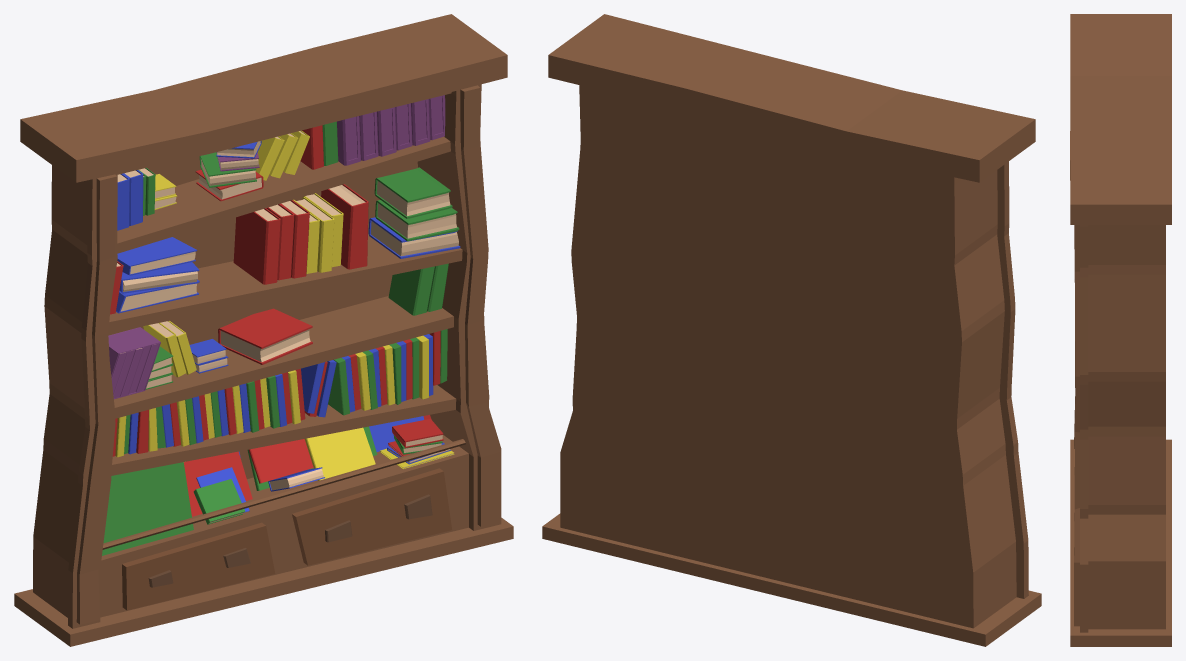
The model's file is bookcase torta.fbx.
3 renders of one model, left to right at view 1: azimuth 30°, elevation 25°; view 2: azimuth 150°, elevation 25°; view 3: azimuth 270°, elevation 25°, orthographic. The views are drawn at different scales.
Visible parts, largest first — view 1: BarBottomShelf; view 2: BarBottomShelf; view 3: BarBottomShelf.
Boxes of the visible parts, left/top/right/bottom form: BarBottomShelf: left=14, top=14, right=513, bottom=646; BarBottomShelf: left=542, top=14, right=1041, bottom=646; BarBottomShelf: left=1070, top=14, right=1171, bottom=646.
Bounding box in the file's own units: 1386 × 1449 × 304.
